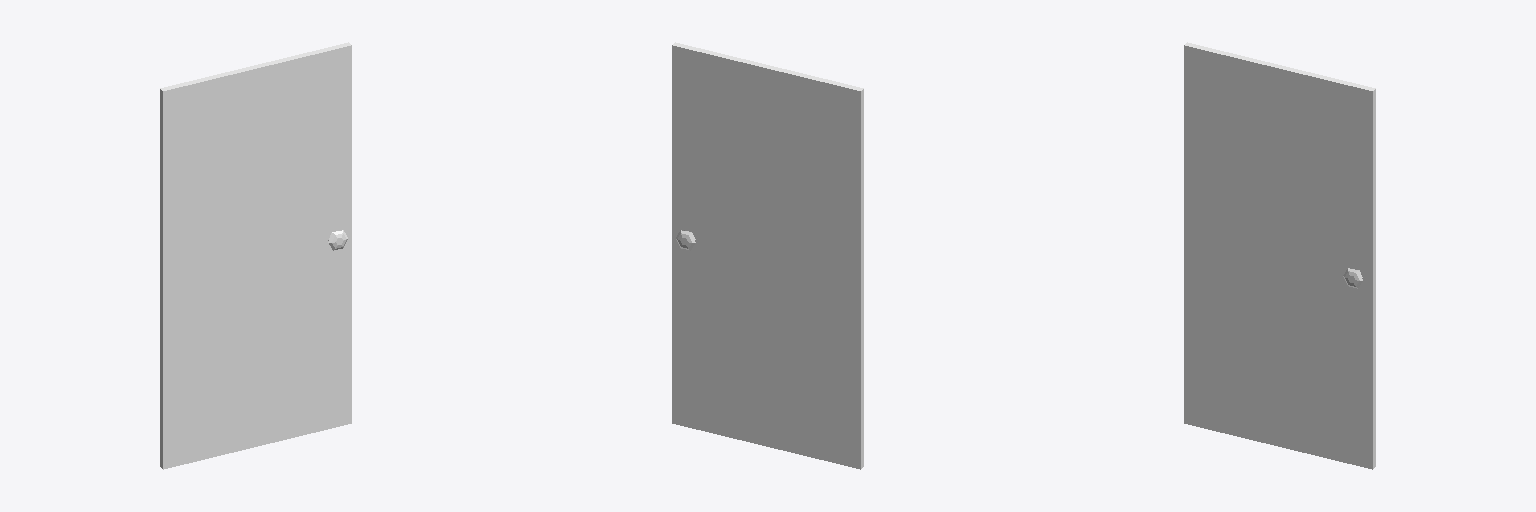
The model's file is toiletRoomDoor.obj.
3 views of the same model, side by side, from view 1: azimuth 30°, elevation 25°; view 2: azimuth 150°, elevation 25°; view 3: azimuth 330°, elevation 25° (orthographic).
Parts seen in each view (by area): view 1: door; view 2: door; view 3: door.
Part boxes in pixels (left/top/right/bottom): door: left=160, top=42, right=351, bottom=469; door: left=672, top=42, right=863, bottom=469; door: left=1184, top=42, right=1375, bottom=469.
Bounding box in the file's own units: 97.66 × 187 × 10.89.